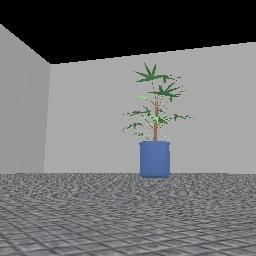planta: (122, 63, 193, 177)
